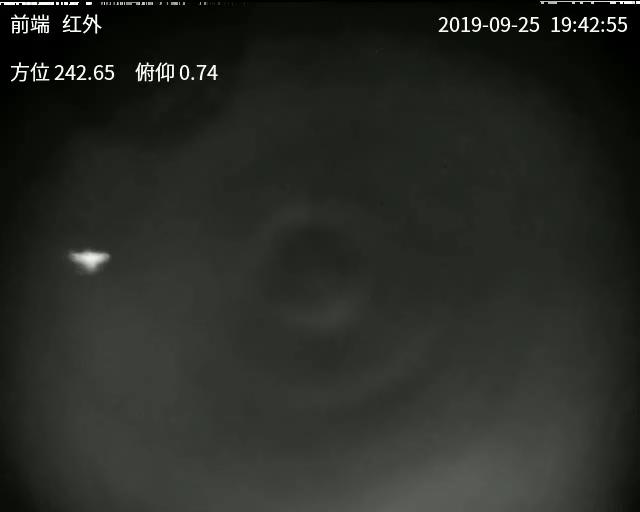uav: (64, 244, 108, 273)
